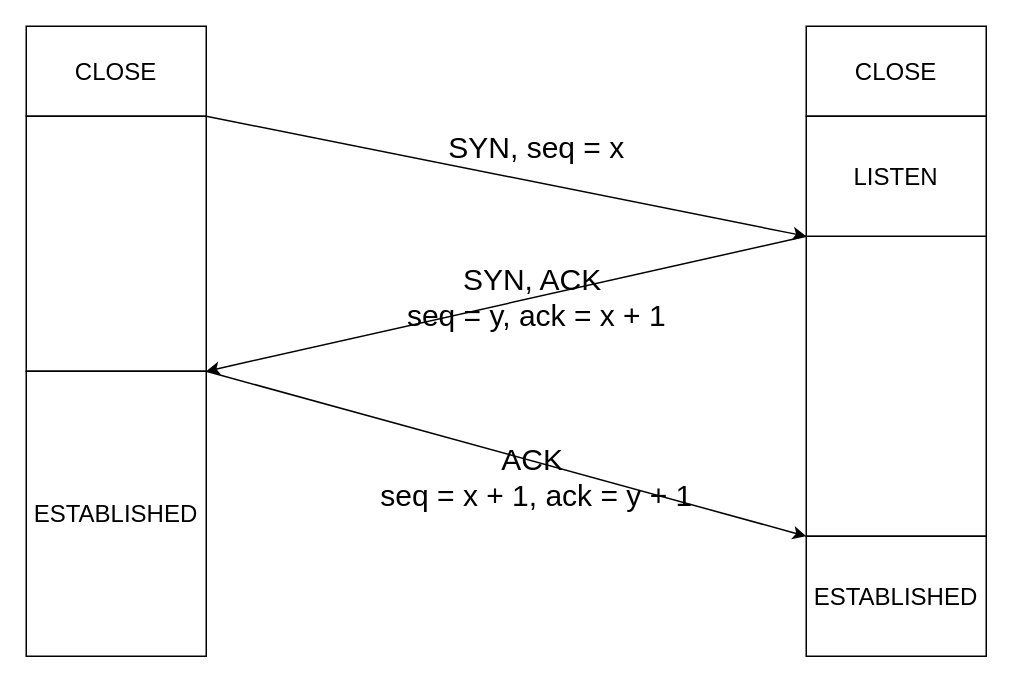
Image size: 1013x683. Some labels were removed from this diagram. Here are the shapes that lost their labels. From the top down, the centre of each, then its label:
At [115,243]: "SYN_SENT".
At [895,385]: "SYN_RCVD".
